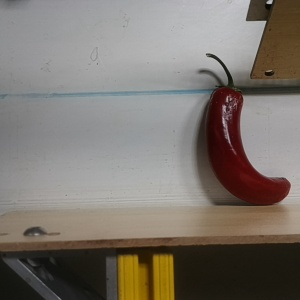Cut Point: (213, 75, 245, 107)
